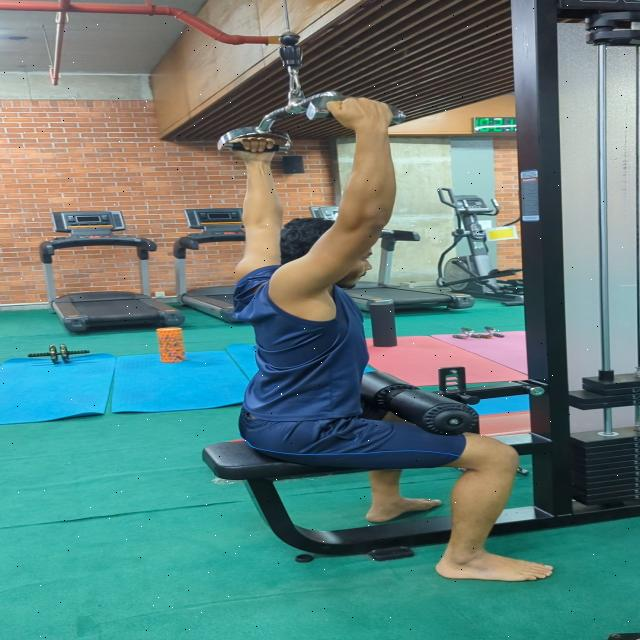Normal_LatPulldown: (178, 87, 575, 595)
